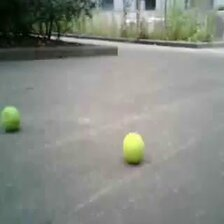tennis: (123, 132, 145, 162), (1, 105, 21, 132)
